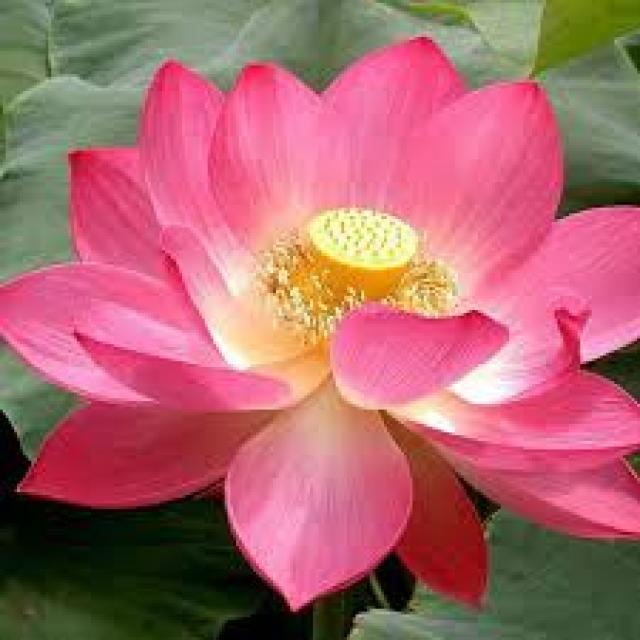lotus: (22, 43, 631, 634)
